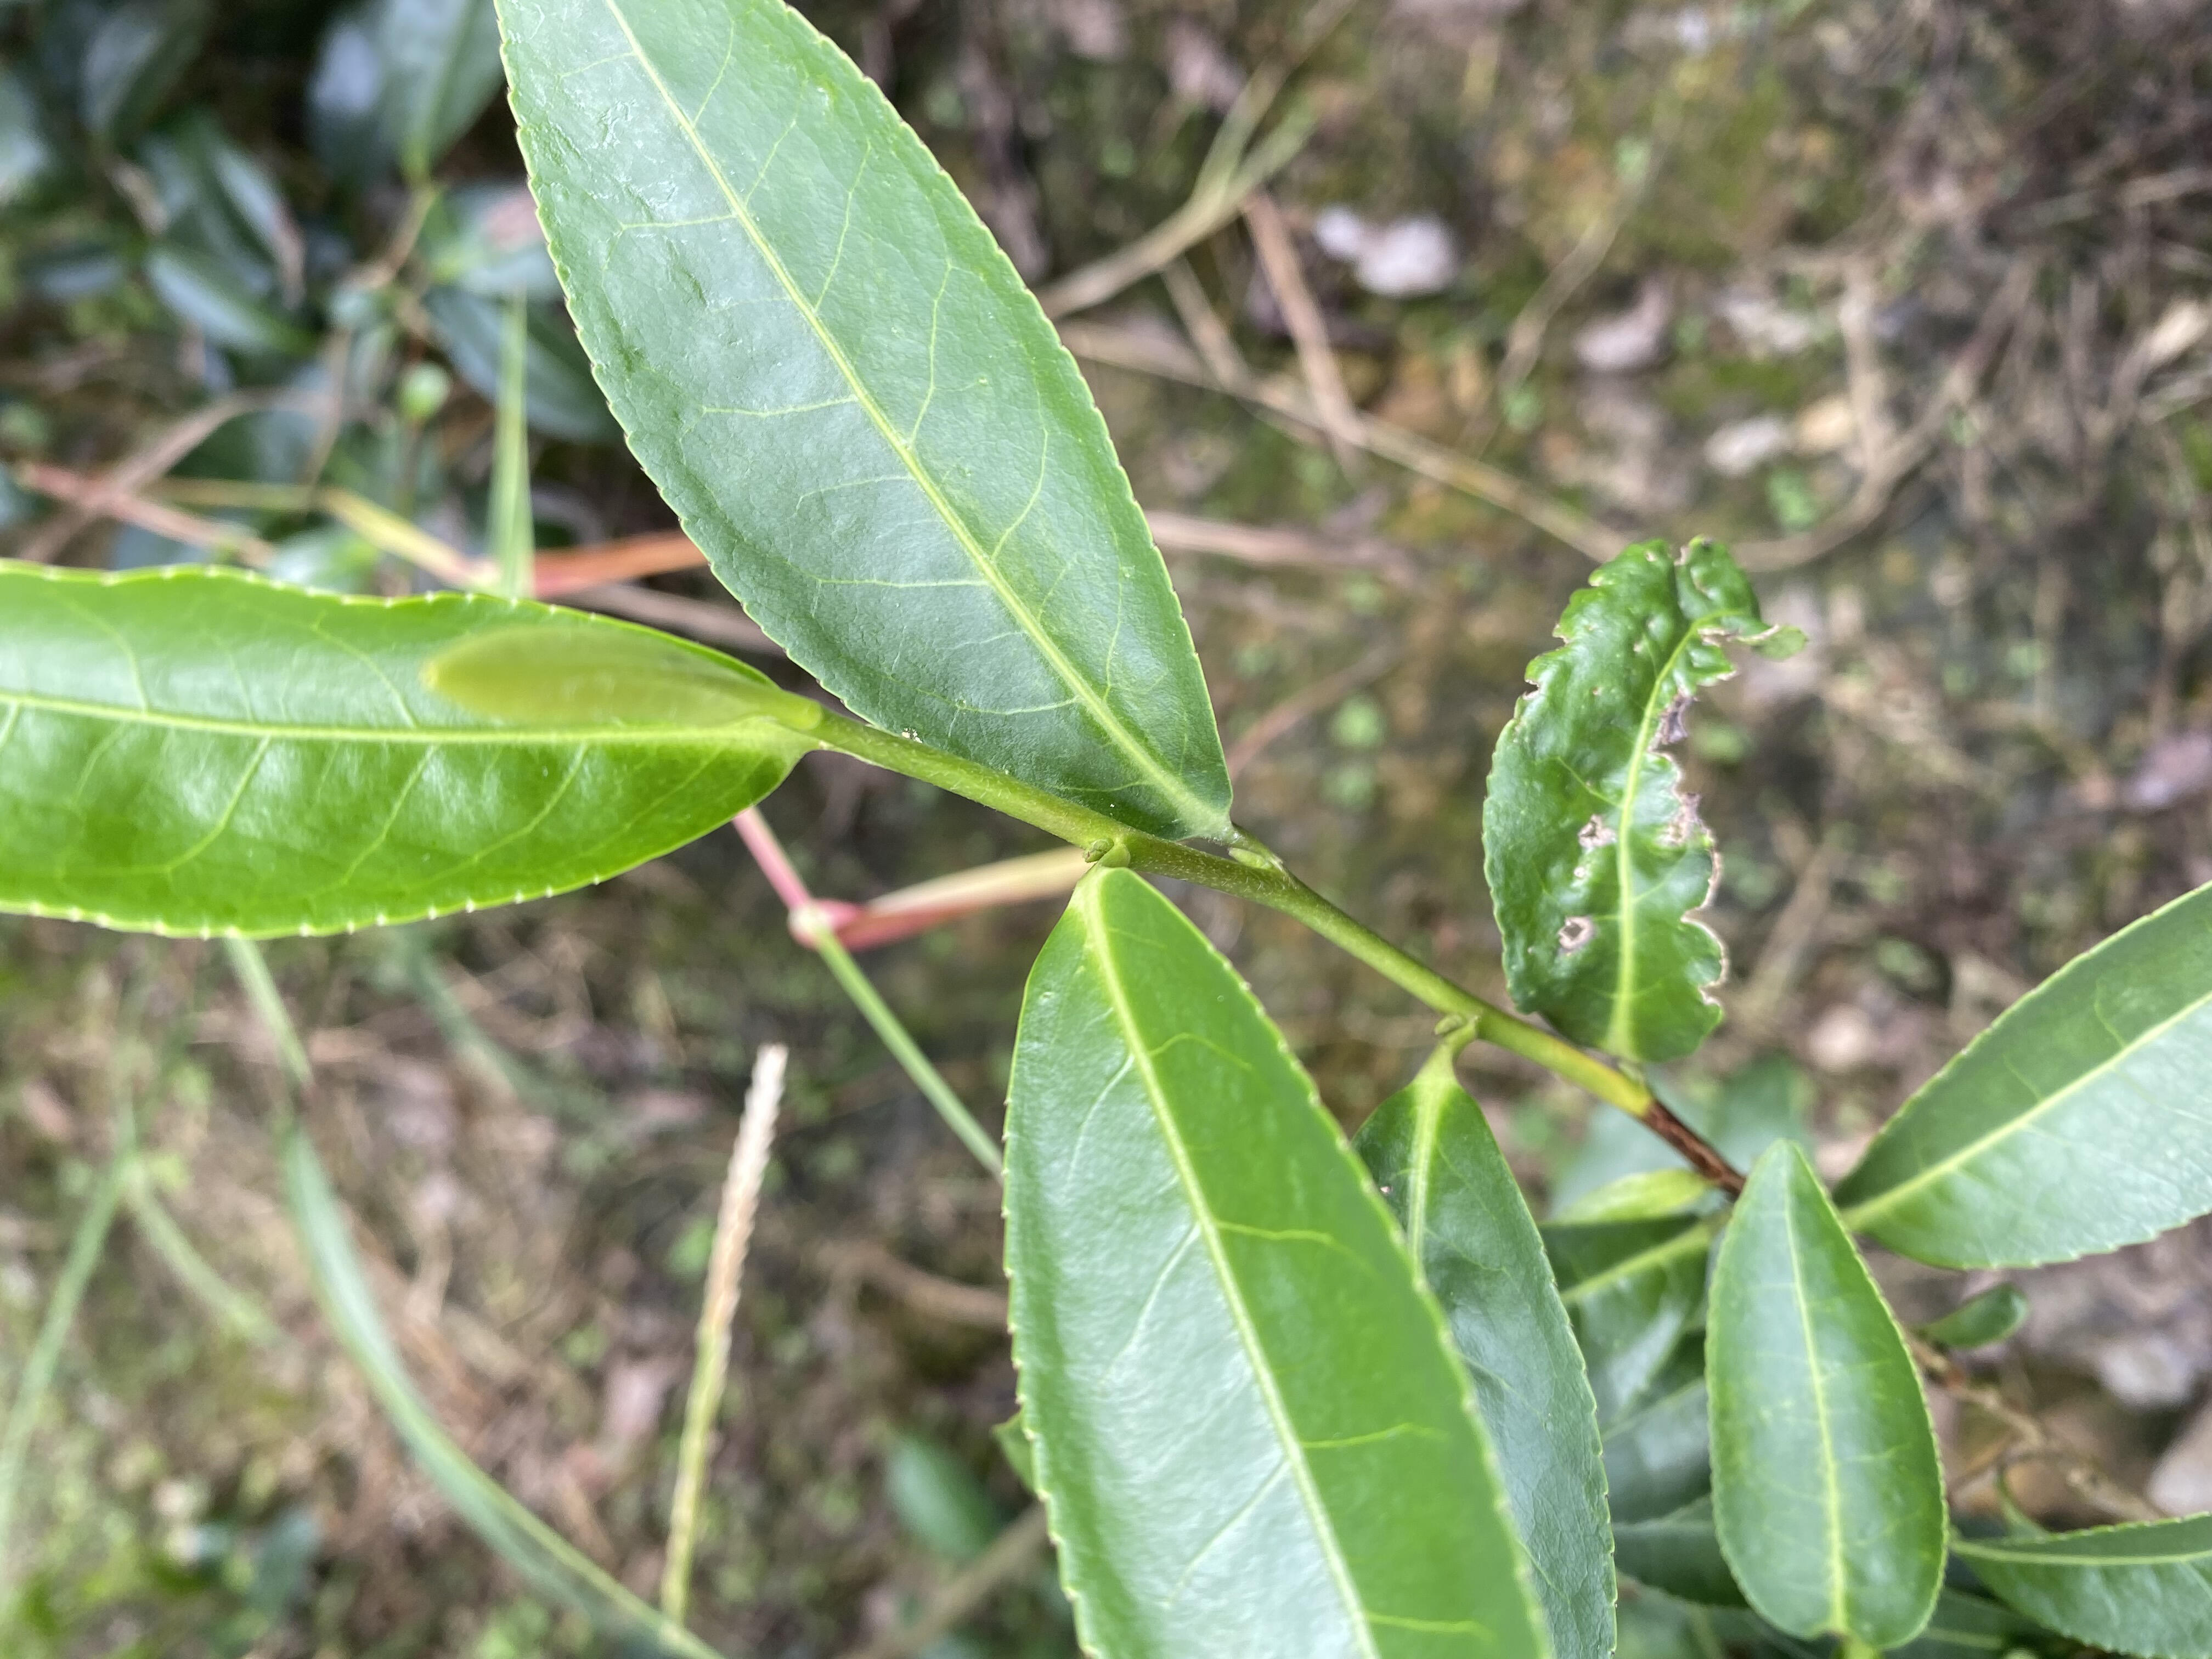chihuo_high: (1477, 535, 1777, 1079)
healthy: (486, 2, 1231, 838), (1000, 861, 1557, 1657), (2, 556, 805, 941), (1839, 878, 2207, 1276), (1702, 1140, 1954, 1649)
